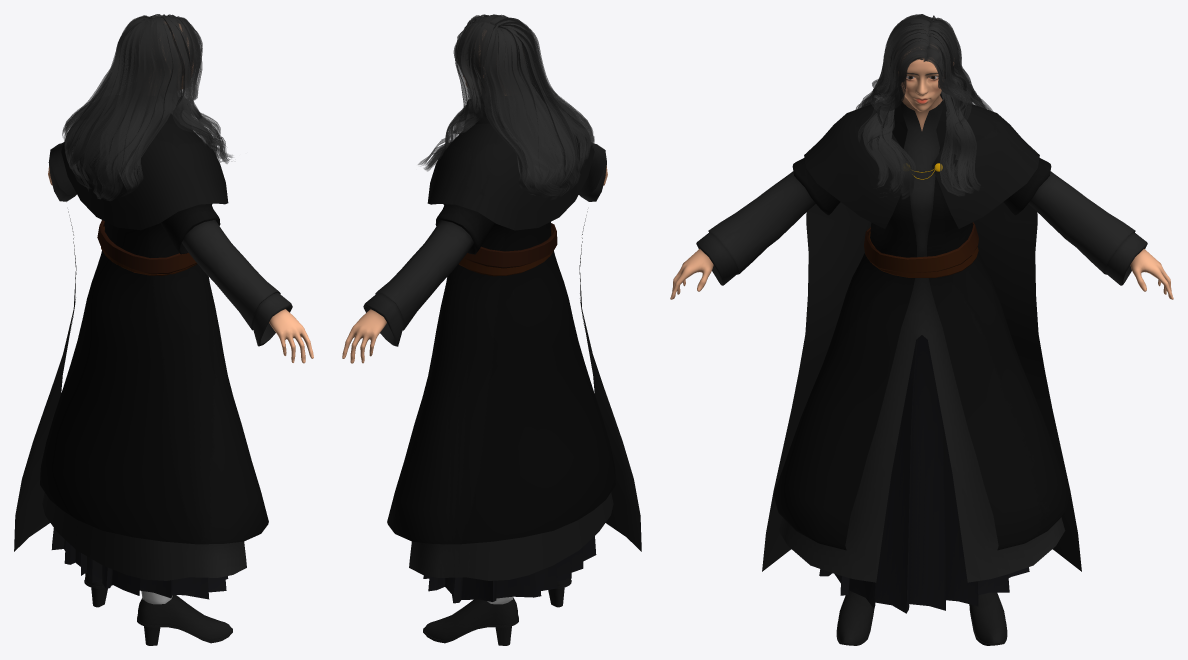
The model's file is character_realistic_female.glb.
3 views of the same model, side by side, from view 1: azimuth 30°, elevation 25°; view 2: azimuth 150°, elevation 25°; view 3: azimuth 270°, elevation 25° (orthographic).
Visible parts, largest first — view 1: Outfit, Hair, Shoes, Body; view 2: Outfit, Hair, Shoes, Body; view 3: Outfit, Hair, Body, Shoes.
Part boxes in pixels (left/top/right/bottom): Outfit: left=14, top=103, right=292, bottom=599; Hair: left=62, top=14, right=232, bottom=200; Shoes: left=84, top=573, right=232, bottom=645; Body: left=48, top=24, right=313, bottom=363; Outfit: left=363, top=100, right=641, bottom=603; Hair: left=418, top=14, right=594, bottom=199; Shoes: left=423, top=578, right=571, bottom=645; Body: left=342, top=54, right=607, bottom=363; Outfit: left=696, top=87, right=1147, bottom=613; Hair: left=855, top=14, right=992, bottom=199; Body: left=670, top=58, right=1173, bottom=299; Shoes: left=836, top=590, right=1007, bottom=645.
Size of the model in its own units: 0.5543 by 1.71 by 1.27.
2 materials, 2 textured.
